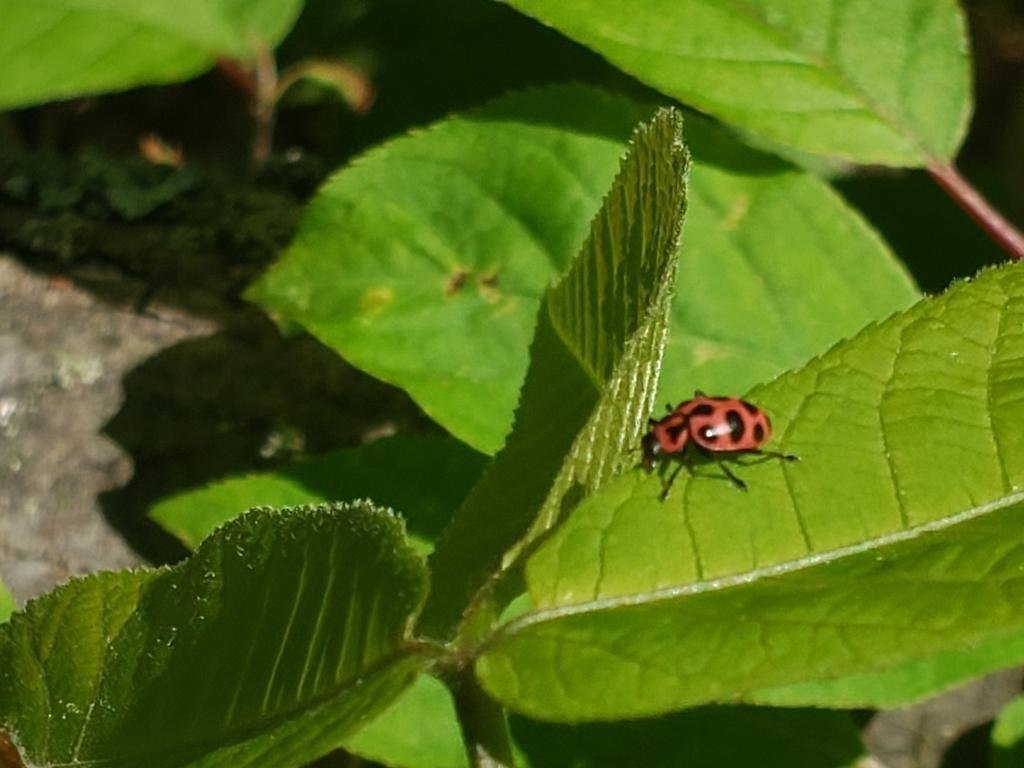ladybug: (625, 387, 805, 505)
